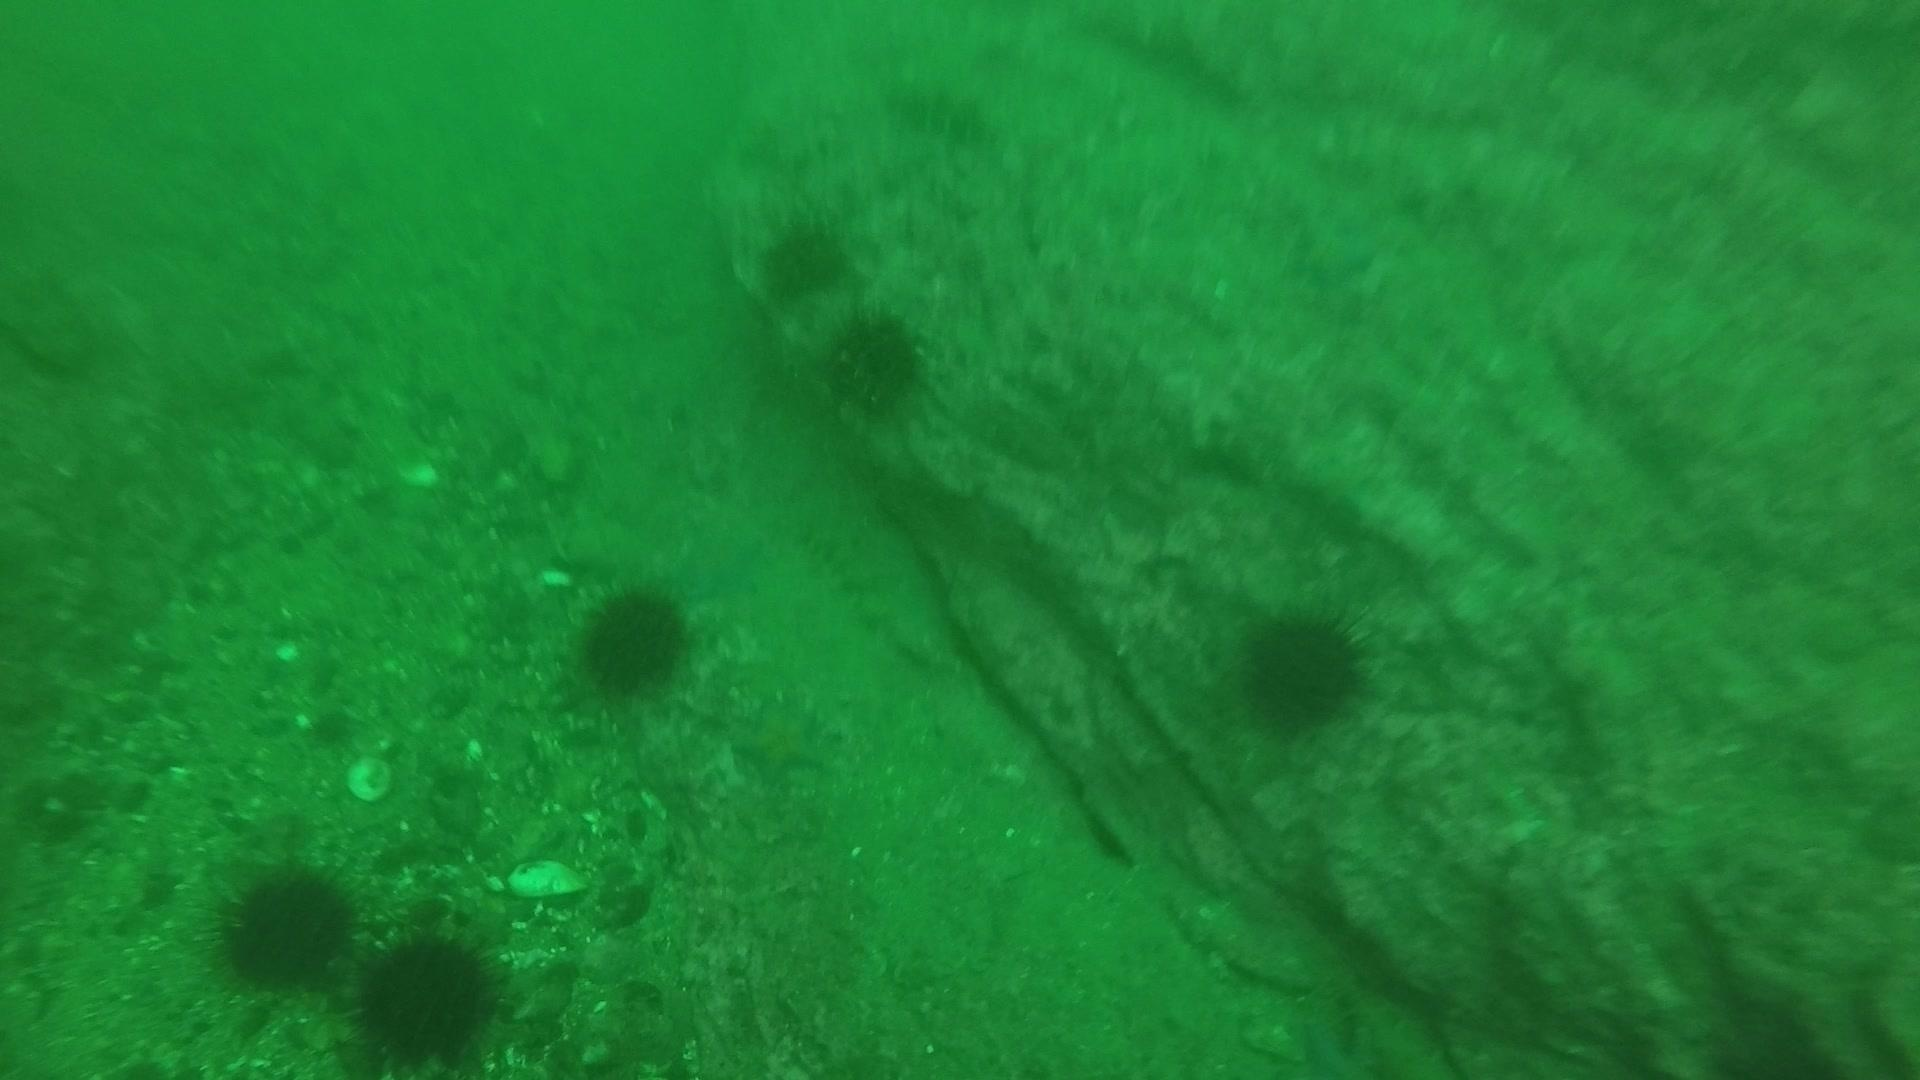echinus: (342, 920, 509, 1069), (204, 857, 364, 996), (1233, 603, 1375, 735), (570, 578, 696, 700), (814, 302, 931, 421), (753, 212, 856, 306)
holothurian: (884, 73, 996, 149)
starfish: (662, 513, 775, 608), (727, 688, 835, 787), (1284, 211, 1382, 293)
